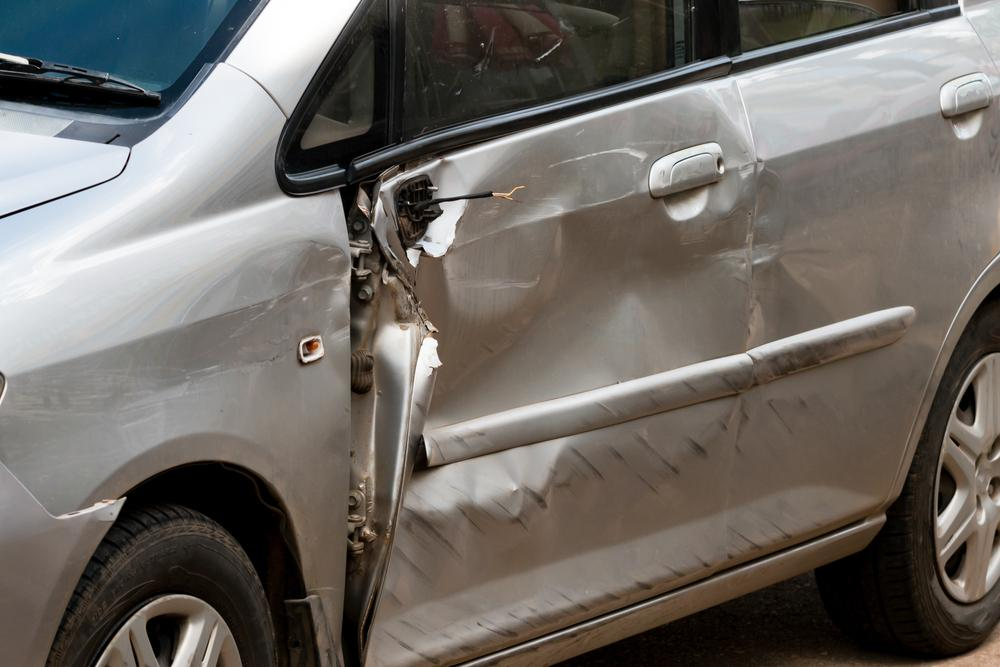dent: (396, 100, 752, 524), (164, 245, 347, 421), (745, 165, 838, 358)
scratch: (373, 401, 739, 667), (748, 313, 916, 386), (737, 387, 834, 455), (728, 516, 835, 560)
